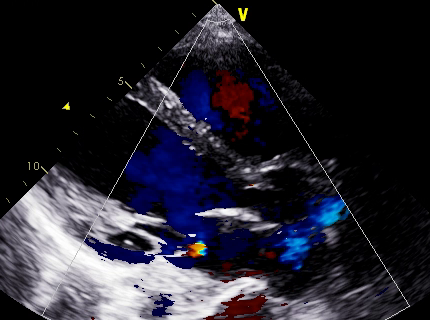MR: (165, 208, 230, 269)
